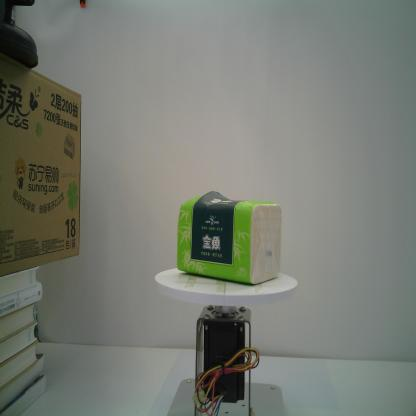Tissue: (176, 190, 282, 285)
